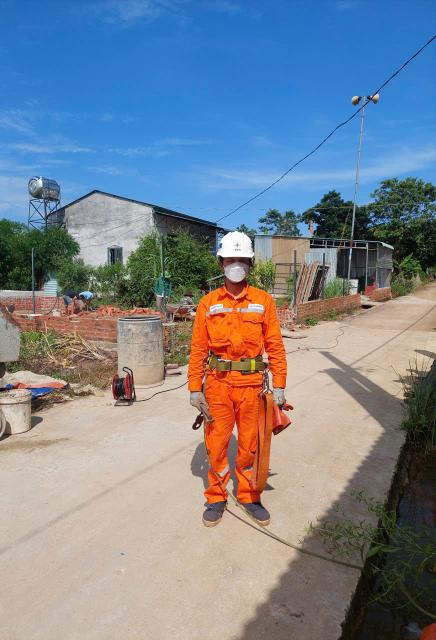gloves: (180, 385, 219, 426), (257, 372, 296, 411)
harness: (195, 345, 275, 389)
helmet: (202, 223, 262, 270)
shoes: (220, 484, 277, 533), (198, 490, 234, 532)
